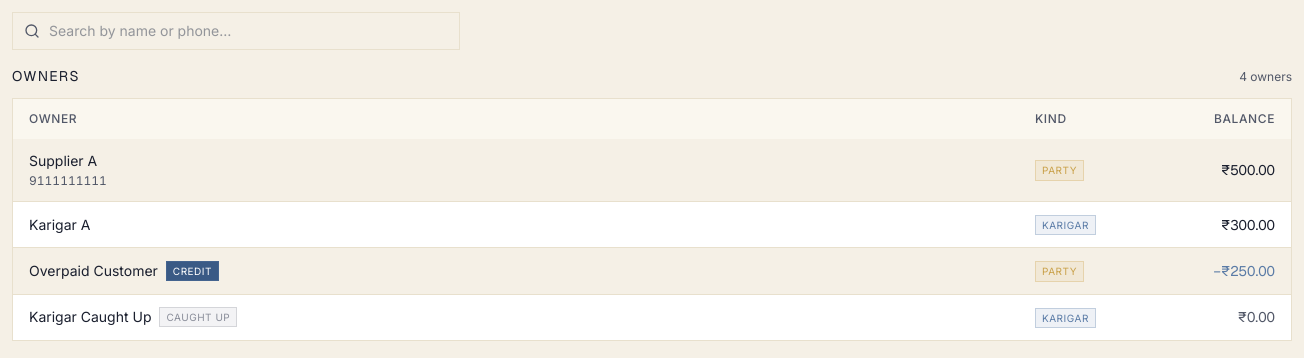
Test case: LedgerClient — search filter › narrows by phone
The image size is (1304, 358).
Type "9111" into the search field with placeholder "Search by name or phone…" at (236, 31), box left=12, top=12, right=460, bottom=50
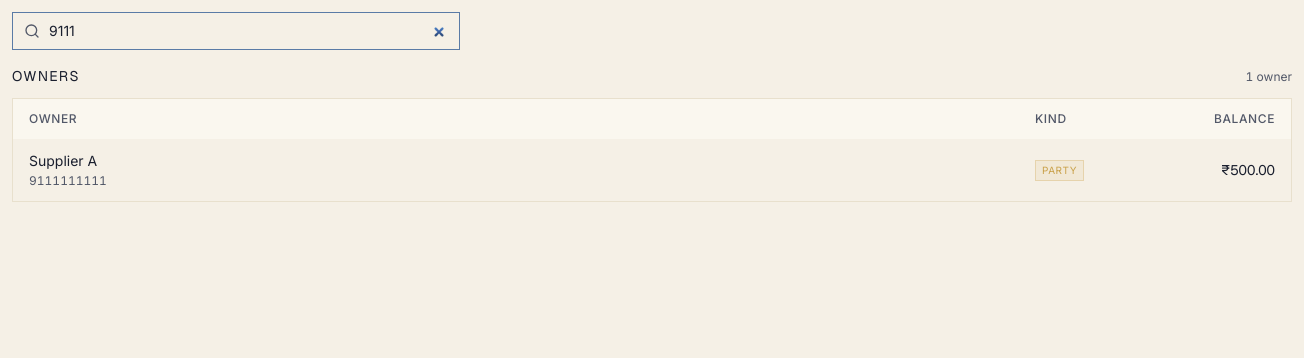
Expected: the text "Supplier A" is shown, left=29, top=151, right=97, bottom=171
Expected: the number of rows with test id "ledger-owner-row" is 1, left=13, top=139, right=1291, bottom=201
